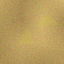structure: (18, 26, 35, 43), (36, 12, 58, 24)
